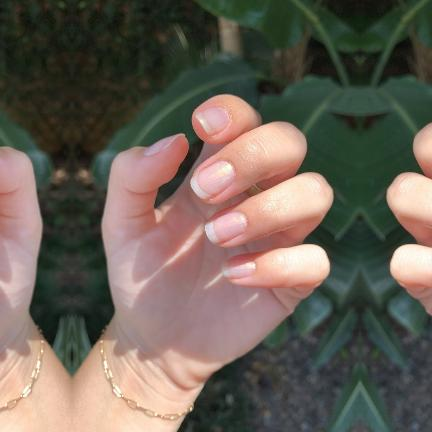Nail: (190, 161, 235, 200), (205, 212, 247, 244), (196, 107, 229, 136), (145, 134, 183, 156), (221, 259, 256, 279)
